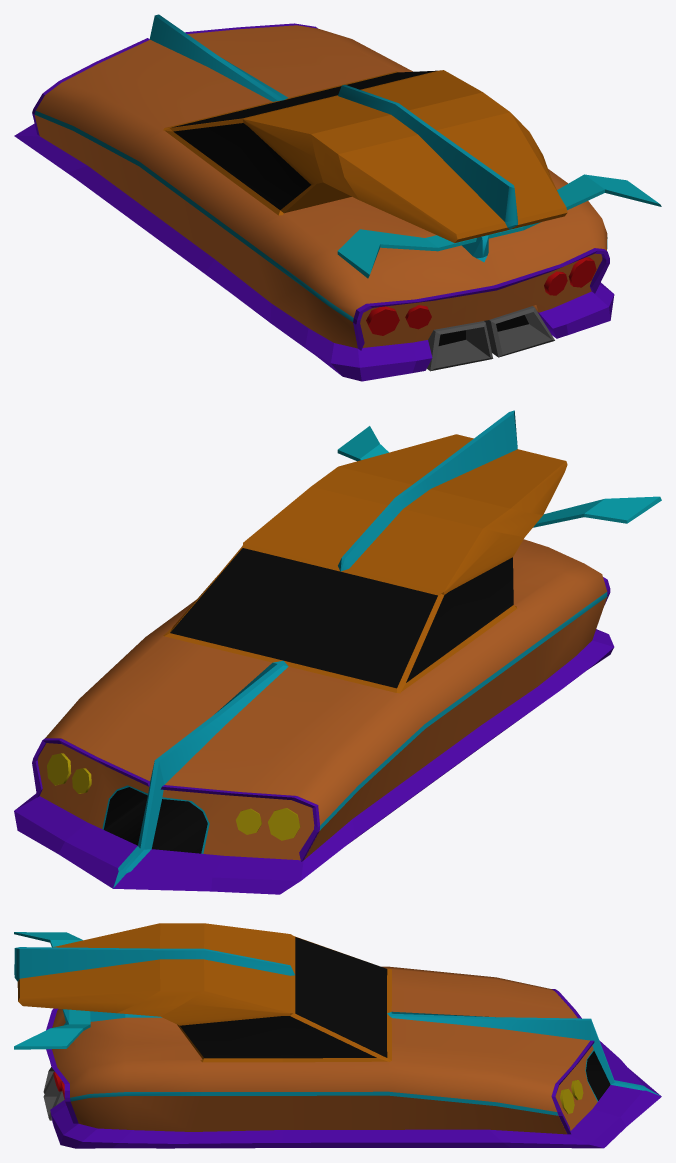
File: car08v02Unwarped.fbx
3 views of the same model, one above another, from view 1: azimuth 30°, elevation 25°; view 2: azimuth 150°, elevation 25°; view 3: azimuth 270°, elevation 25° (orthographic). The views are drawn at different scales.
Visible parts, largest first — view 1: exhaust; view 2: exhaust; view 3: exhaust.
Part boxes in pixels (x1,y1,x2,y2): exhaust: [14, 14, 661, 381]; exhaust: [14, 410, 661, 894]; exhaust: [14, 923, 661, 1148].
Size of the model in its own units: 0.0312 by 0.0191 by 0.0739.
